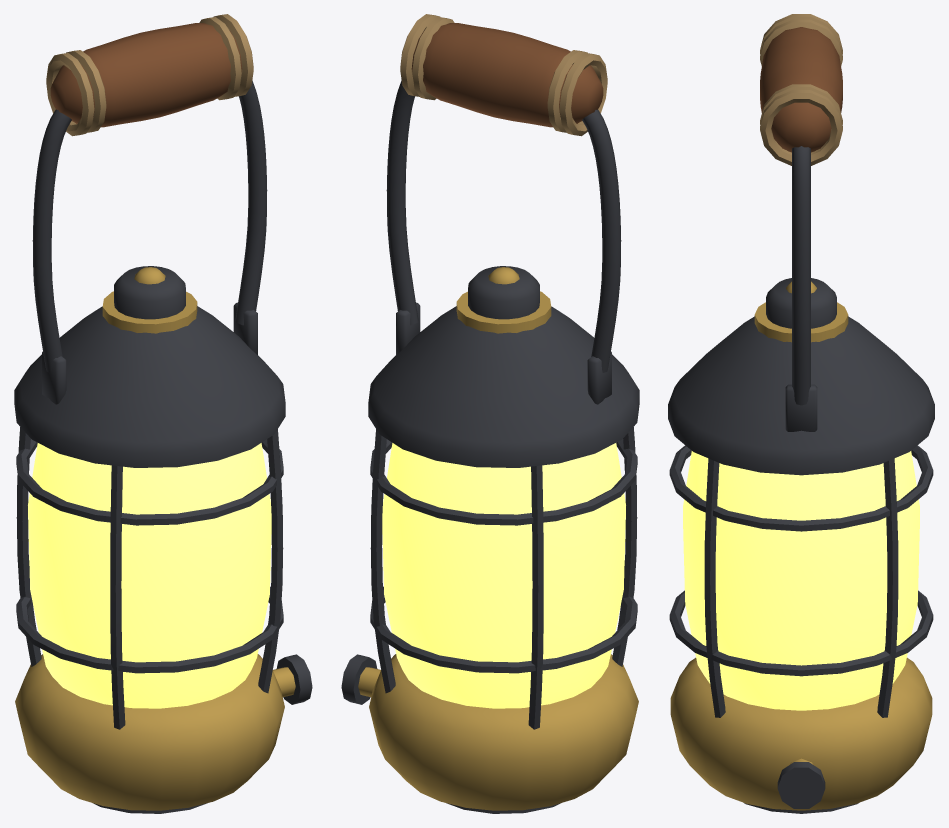
Rendered from tool_lantern.fbx.
3 views of the same model, side by side, from view 1: azimuth 30°, elevation 25°; view 2: azimuth 150°, elevation 25°; view 3: azimuth 270°, elevation 25° (orthographic). The views are drawn at different scales.
Parts seen in each view (by area): view 1: Tool_Lantern_Glass, Tool_Lantern_Cap, Tool_Lantern_Base, Tool_Lantern_Grip, Tool_Lantern_Cage, Tool_Lantern_Bail; view 2: Tool_Lantern_Glass, Tool_Lantern_Cap, Tool_Lantern_Base, Tool_Lantern_Grip, Tool_Lantern_Cage, Tool_Lantern_Bail; view 3: Tool_Lantern_Glass, Tool_Lantern_Cap, Tool_Lantern_Base, Tool_Lantern_Cage, Tool_Lantern_Grip, Tool_Lantern_Bail.
Boxes of the visible parts, x1,y1,x2,y2 form: Tool_Lantern_Glass: (28,443,271,708); Tool_Lantern_Cap: (14,266,285,467); Tool_Lantern_Base: (15,654,312,813); Tool_Lantern_Grip: (46,14,253,136); Tool_Lantern_Cage: (16,427,283,729); Tool_Lantern_Bail: (32,80,267,372); Tool_Lantern_Glass: (382,443,625,708); Tool_Lantern_Cap: (368,266,639,467); Tool_Lantern_Base: (341,654,638,813); Tool_Lantern_Grip: (400,14,607,136); Tool_Lantern_Cage: (370,427,637,729); Tool_Lantern_Bail: (386,80,621,372); Tool_Lantern_Glass: (683,451,919,710); Tool_Lantern_Cap: (668,278,934,475); Tool_Lantern_Base: (670,657,932,813); Tool_Lantern_Cage: (669,445,933,717); Tool_Lantern_Grip: (760,14,842,165); Tool_Lantern_Bail: (792,146,810,405).
Bounding box in the file's own units: 13.3 × 35.27 × 11.7.
